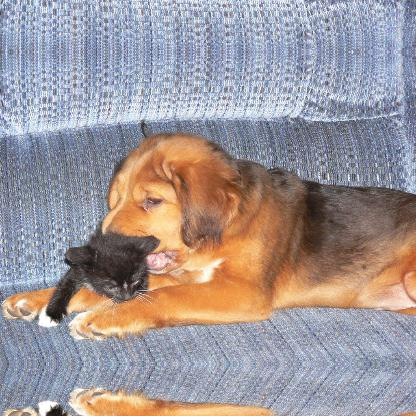Cat: (37, 217, 163, 327)
